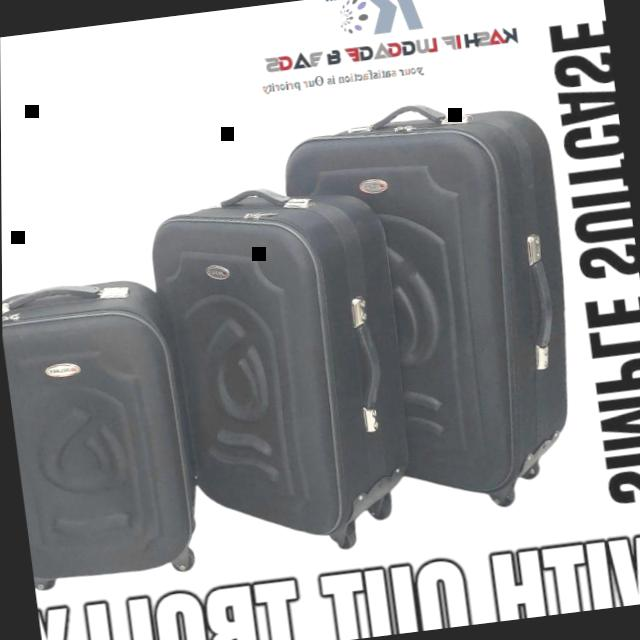luggage: (263, 79, 603, 534), (135, 157, 439, 571), (1, 253, 221, 598)
